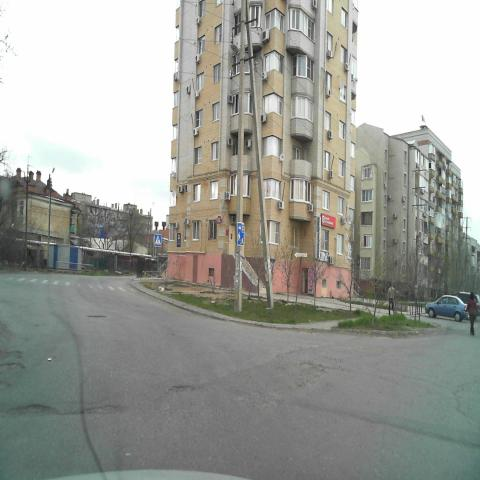5_19_1: (154, 232, 163, 248)
5_21: (237, 223, 244, 246)
